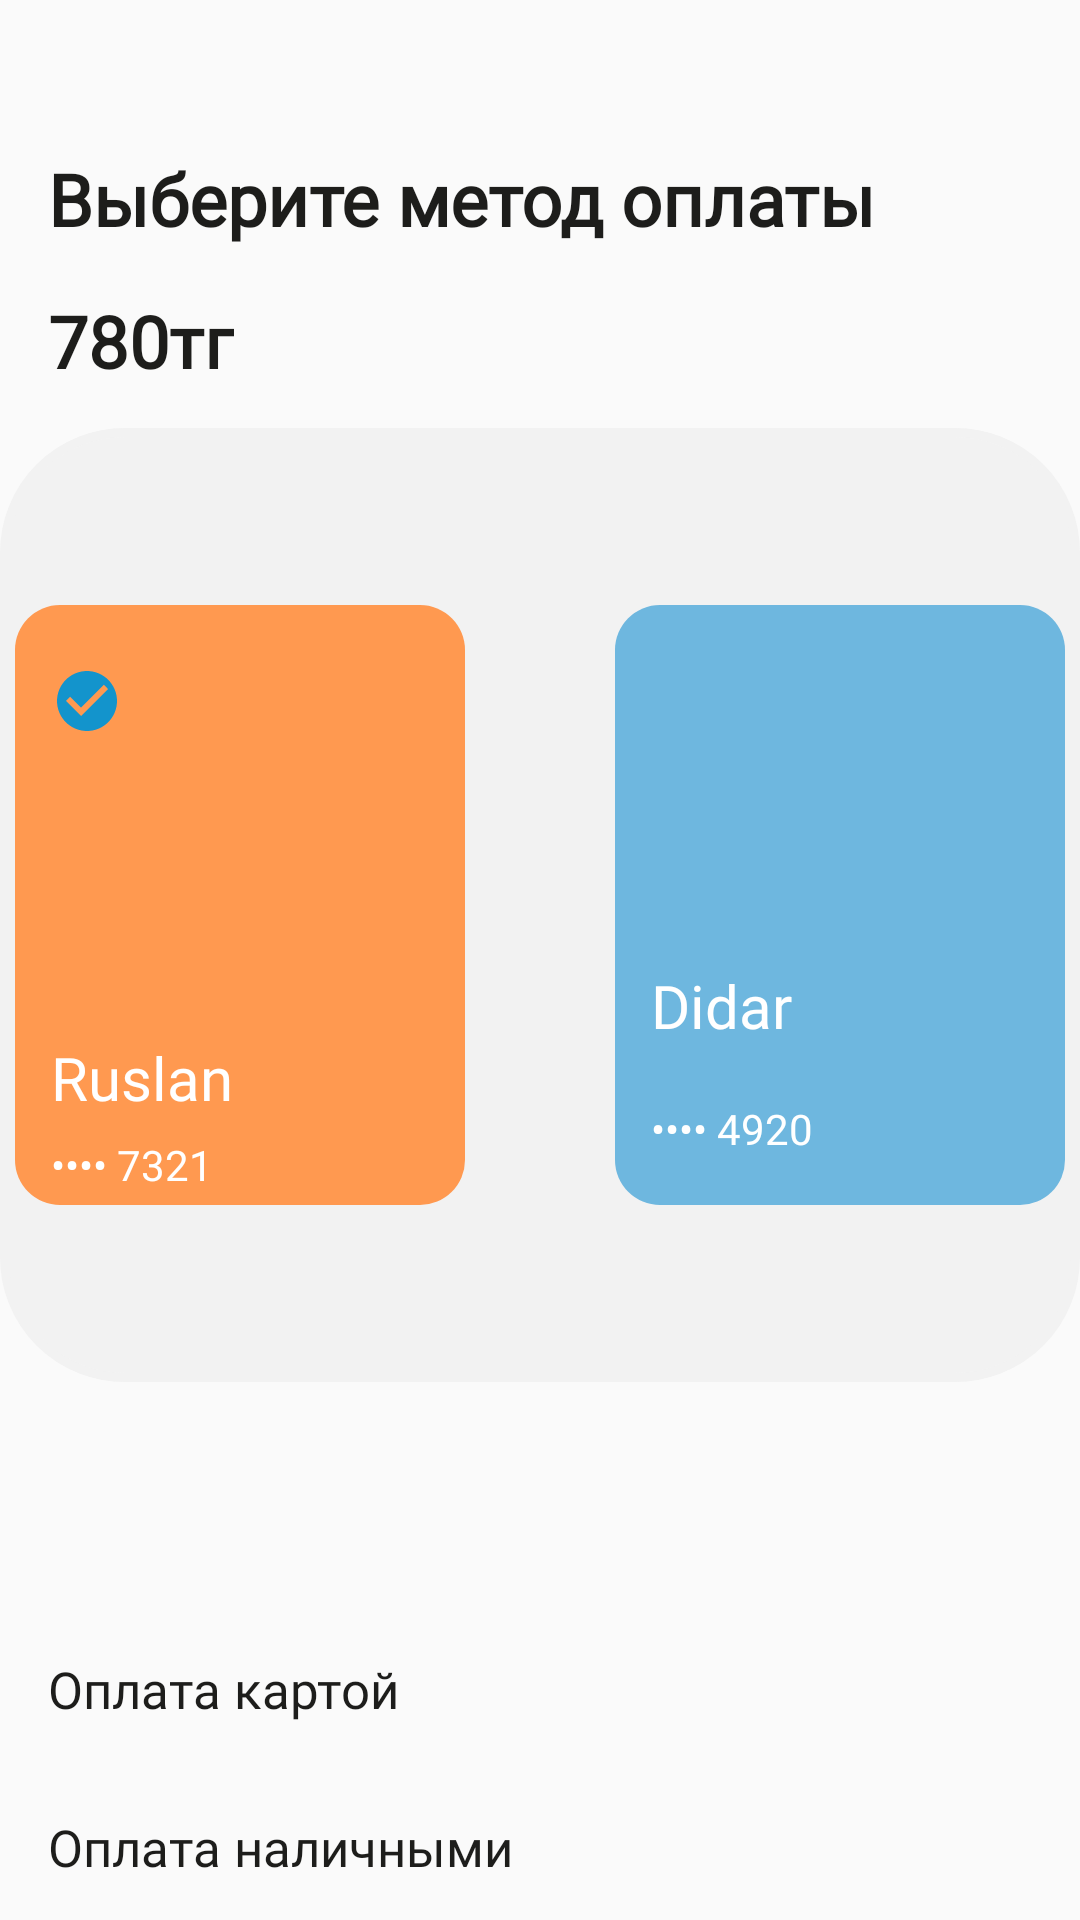

Locate icon controls on the screen. Image size 1080w x 1920h, boxes as region(x1, y1, x2, y2).
check circle: region(57, 671, 117, 731)
